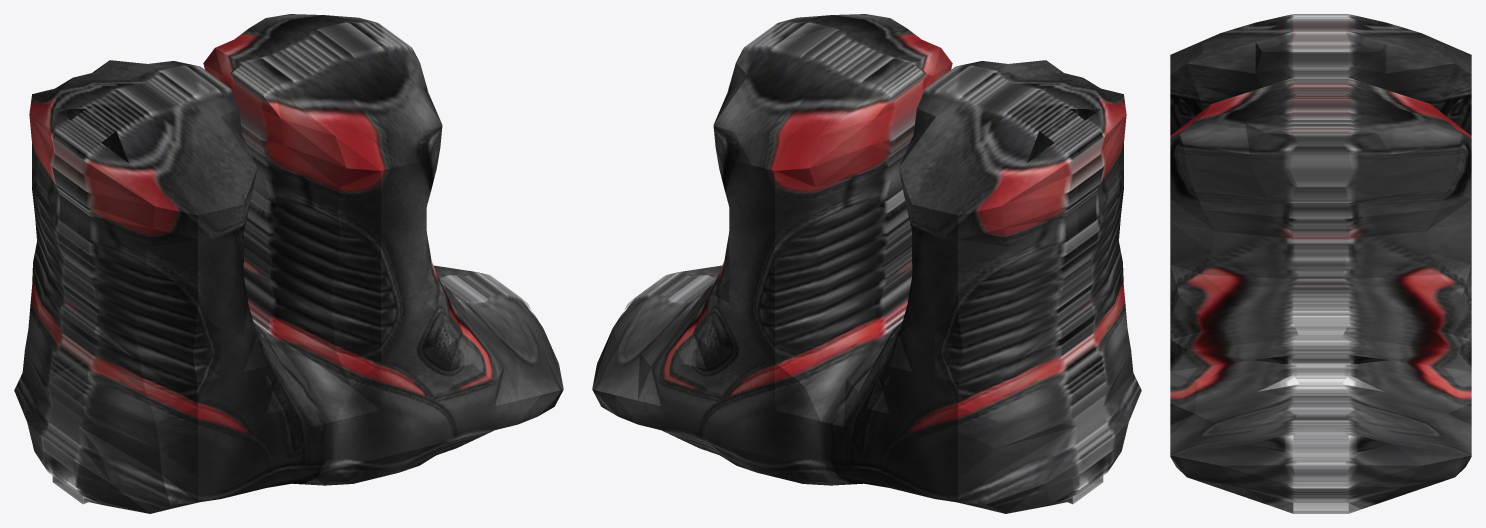
File: held-vector-touring-boot-122.glb
3 views of the same model, side by side, from view 1: azimuth 30°, elevation 25°; view 2: azimuth 150°, elevation 25°; view 3: azimuth 270°, elevation 25° (orthographic). The views are drawn at different scales.
Visible parts, largest first — view 1: world; view 2: world; view 3: world.
Boxes of the visible parts, box(x1,y1,x2,y2) form: world: box(14, 14, 563, 513); world: box(592, 14, 1141, 513); world: box(1170, 14, 1471, 513).
Size of the model in its own units: 1 by 0.8355 by 0.62.
Materials: 1 (1 with a texture image).
